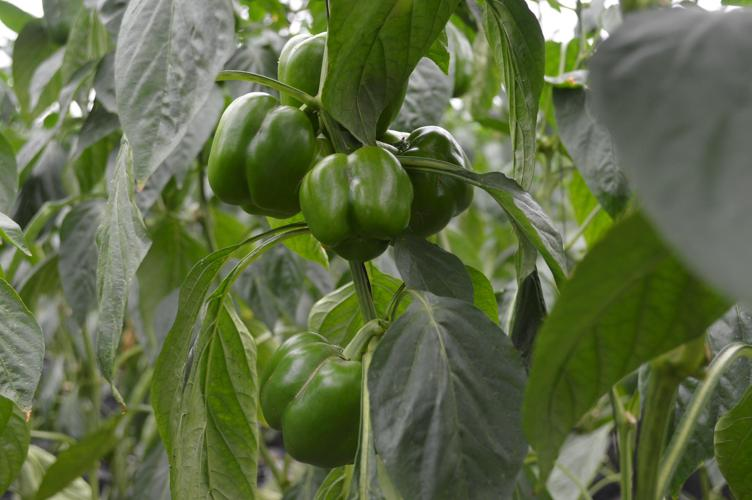BellPepper: (241, 321, 380, 465), (196, 91, 323, 213), (300, 142, 425, 252), (387, 113, 481, 234), (256, 24, 351, 105)
